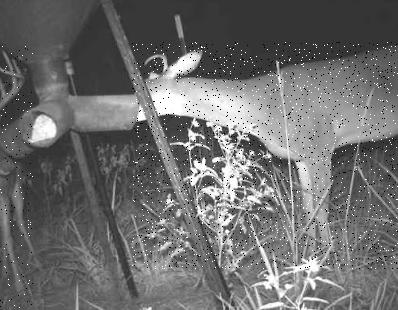Deer: (132, 42, 398, 269), (0, 46, 33, 308)
